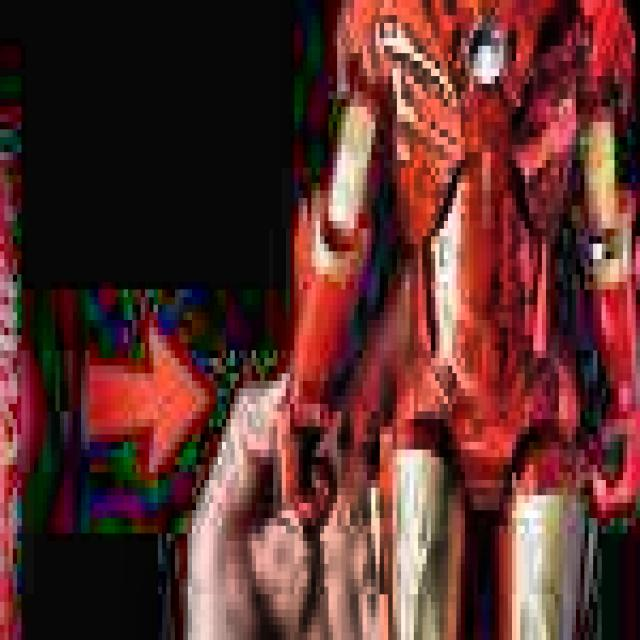metal: (0, 99, 38, 640)
